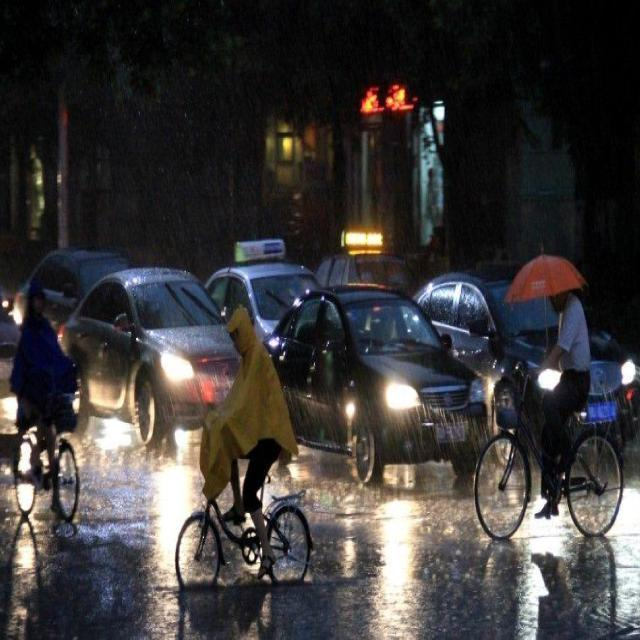car: (386, 268, 634, 454), (256, 280, 484, 477), (56, 264, 246, 446), (186, 238, 344, 382), (5, 249, 158, 373), (294, 228, 436, 348)
